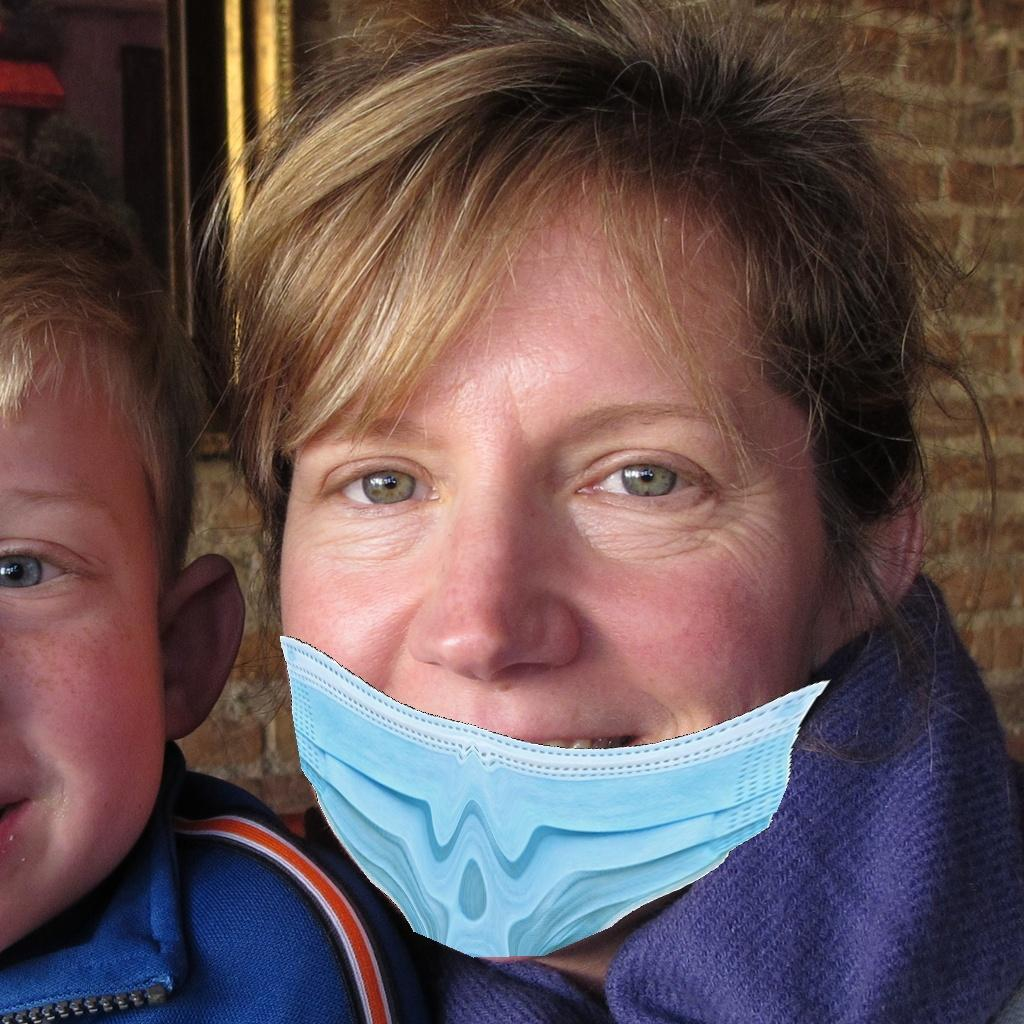Máscara Incorreta: (255, 245, 840, 906)
